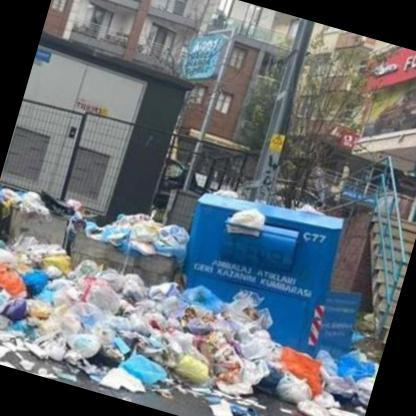Garbage: (6, 268, 262, 415), (76, 195, 198, 267), (0, 176, 88, 233), (0, 231, 33, 364), (94, 350, 160, 403), (261, 357, 325, 405), (9, 341, 89, 379), (187, 386, 262, 415), (222, 201, 269, 242), (63, 302, 109, 342), (277, 350, 312, 396), (158, 223, 194, 265), (170, 332, 210, 368), (124, 212, 166, 246), (40, 190, 82, 222), (330, 355, 366, 392), (89, 218, 123, 249), (0, 181, 26, 221), (17, 192, 50, 216), (90, 274, 118, 302), (228, 322, 249, 351), (289, 406, 327, 415)
